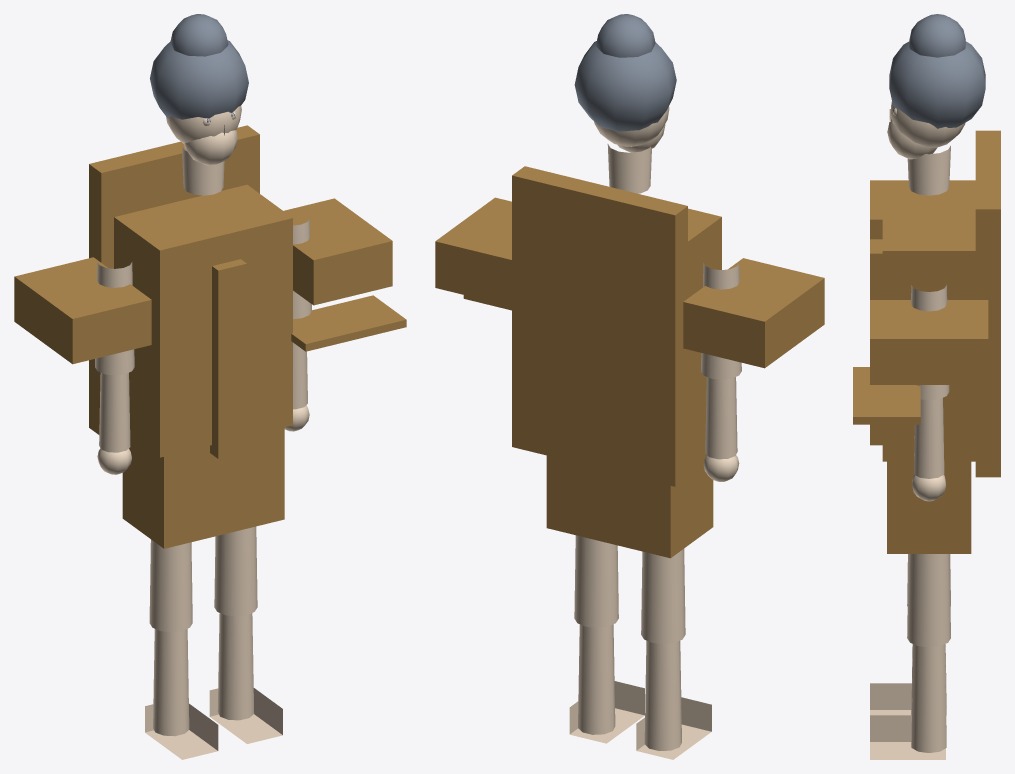
The model's file is body.glb.
3 renders of one model, left to right at view 1: azimuth 30°, elevation 25°; view 2: azimuth 150°, elevation 25°; view 3: azimuth 270°, elevation 25°, orthographic. The views are drawn at different scales.
Parts seen in each view (by area): view 1: Cloth, Skin, Hair; view 2: Cloth, Skin, Hair; view 3: Cloth, Skin, Hair.
Boxes of the visible parts, <box> form: Cloth: <box>14,125,406,548</box>; Skin: <box>95,105,311,759</box>; Hair: <box>150,14,248,119</box>; Cloth: <box>435,166,824,558</box>; Skin: <box>569,106,741,759</box>; Hair: <box>574,14,676,131</box>; Cloth: <box>853,130,1000,553</box>; Skin: <box>870,101,965,759</box>; Hair: <box>889,14,985,128</box>.
Size of the model in its own units: 0.9047 by 1.88 by 0.35.
